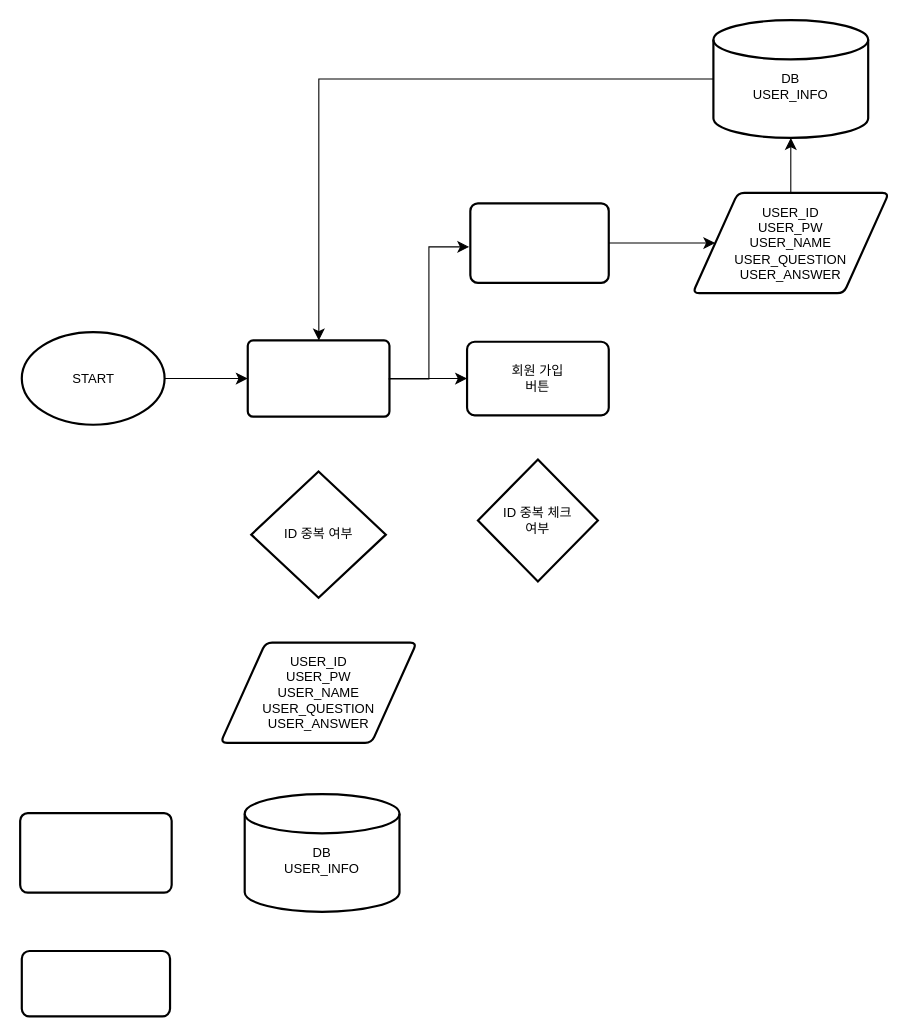
This 908x1036 diagram has some shape labels left out. The shapes that lost their labels are listed below. From the top down, each one's centre as x and y in pixels, then its label:
(539,242): ID 중복 체크 버튼
(318,378): 양식 정보
(95,852): 회원 가입 성공 MSG 출력
(95,983): LOGIN_PAGE 이동
